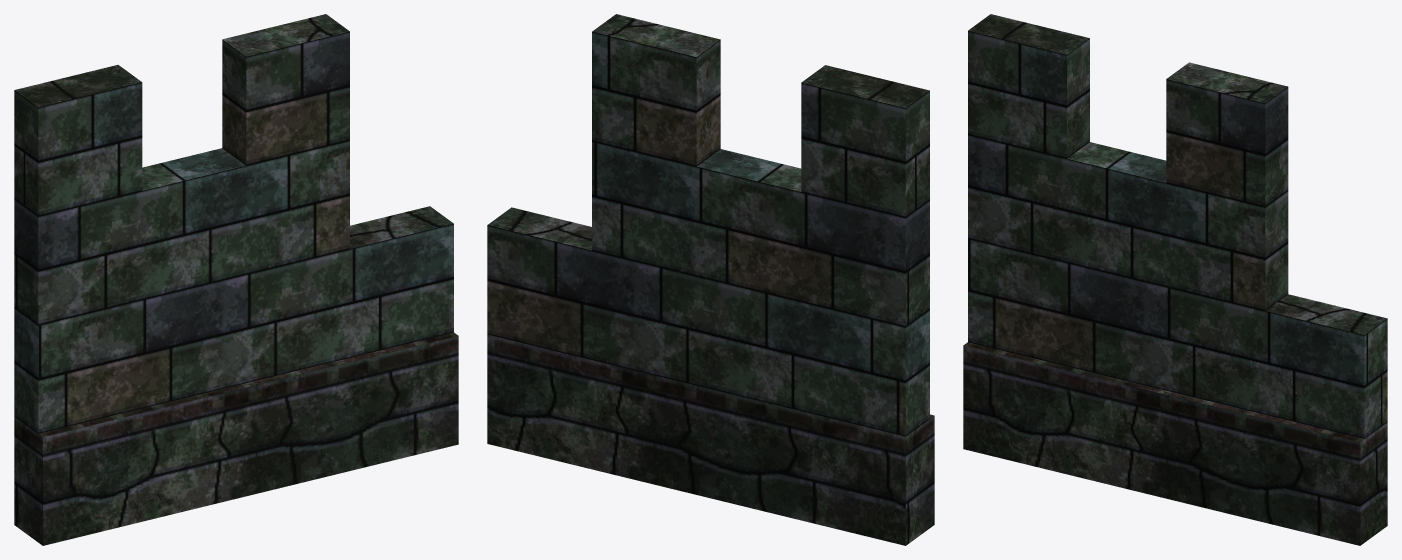
The model's file is SM_CastleWall1x1BrokenV2.fbx.
The picture shows the model from 3 angles, left to right: view 1: azimuth 30°, elevation 25°; view 2: azimuth 150°, elevation 25°; view 3: azimuth 330°, elevation 25°; orthographic projection. The views are drawn at different scales.
Visible parts, largest first — view 1: SM_CastleWall1x1BrokenV2; view 2: SM_CastleWall1x1BrokenV2; view 3: SM_CastleWall1x1BrokenV2.
Part boxes in pixels (x1,y1,x2,y2): SM_CastleWall1x1BrokenV2: (14, 14, 458, 545); SM_CastleWall1x1BrokenV2: (487, 14, 934, 545); SM_CastleWall1x1BrokenV2: (963, 14, 1387, 545).
Bounding box in the file's own units: 2000 × 2000 × 238.
